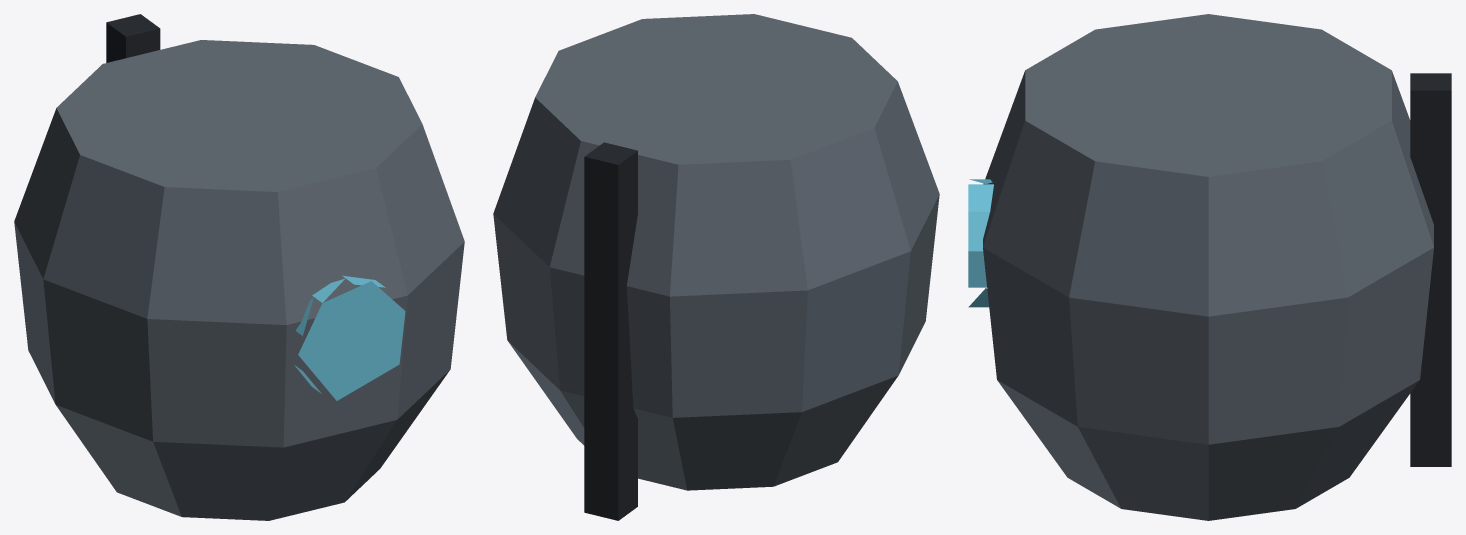
Rendered from torso-prosthesis.lod.glb.
The picture shows the model from 3 angles, left to right: view 1: azimuth 30°, elevation 25°; view 2: azimuth 150°, elevation 25°; view 3: azimuth 270°, elevation 25°; orthographic projection. The views are drawn at different scales.
Parts seen in each view (by area): view 1: m; view 2: m; view 3: m.
Part boxes in pixels (bbox=[...]): m: bbox=[14, 14, 464, 520]; m: bbox=[493, 14, 939, 520]; m: bbox=[968, 14, 1451, 520].
Size of the model in its own units: 0.1943 by 0.17 by 0.1979.
